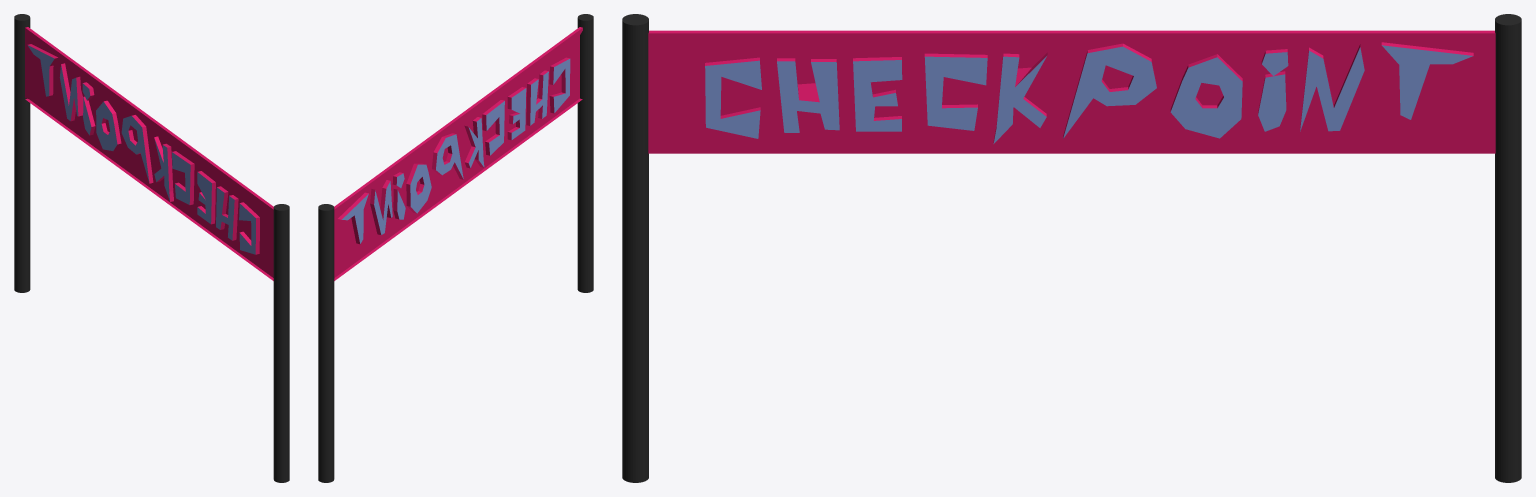
The model's file is Checkpoint.fbx.
3 renders of one model, left to right at view 1: azimuth 30°, elevation 25°; view 2: azimuth 150°, elevation 25°; view 3: azimuth 270°, elevation 25°, orthographic. The views are drawn at different scales.
Visible parts, largest first — view 1: Cube, Cylinder; view 2: Cube, Cylinder; view 3: Cube, Cylinder.
Part boxes in pixels (left/top/right/bottom): Cube: left=25, top=27, right=273, bottom=280; Cylinder: left=14, top=14, right=289, bottom=482; Cube: left=334, top=27, right=582, bottom=280; Cylinder: left=318, top=14, right=593, bottom=482; Cube: left=648, top=30, right=1495, bottom=153; Cylinder: left=622, top=14, right=1521, bottom=482.
Size of the model in its own units: 9.72 by 182 by 325.
